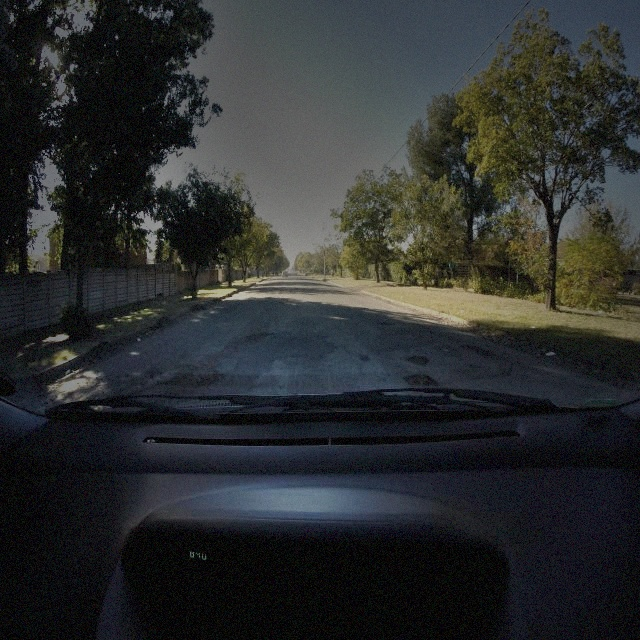pothole: (163, 366, 224, 390), (402, 370, 438, 386), (240, 328, 269, 347), (466, 343, 495, 358), (406, 352, 431, 368), (377, 320, 398, 328)
